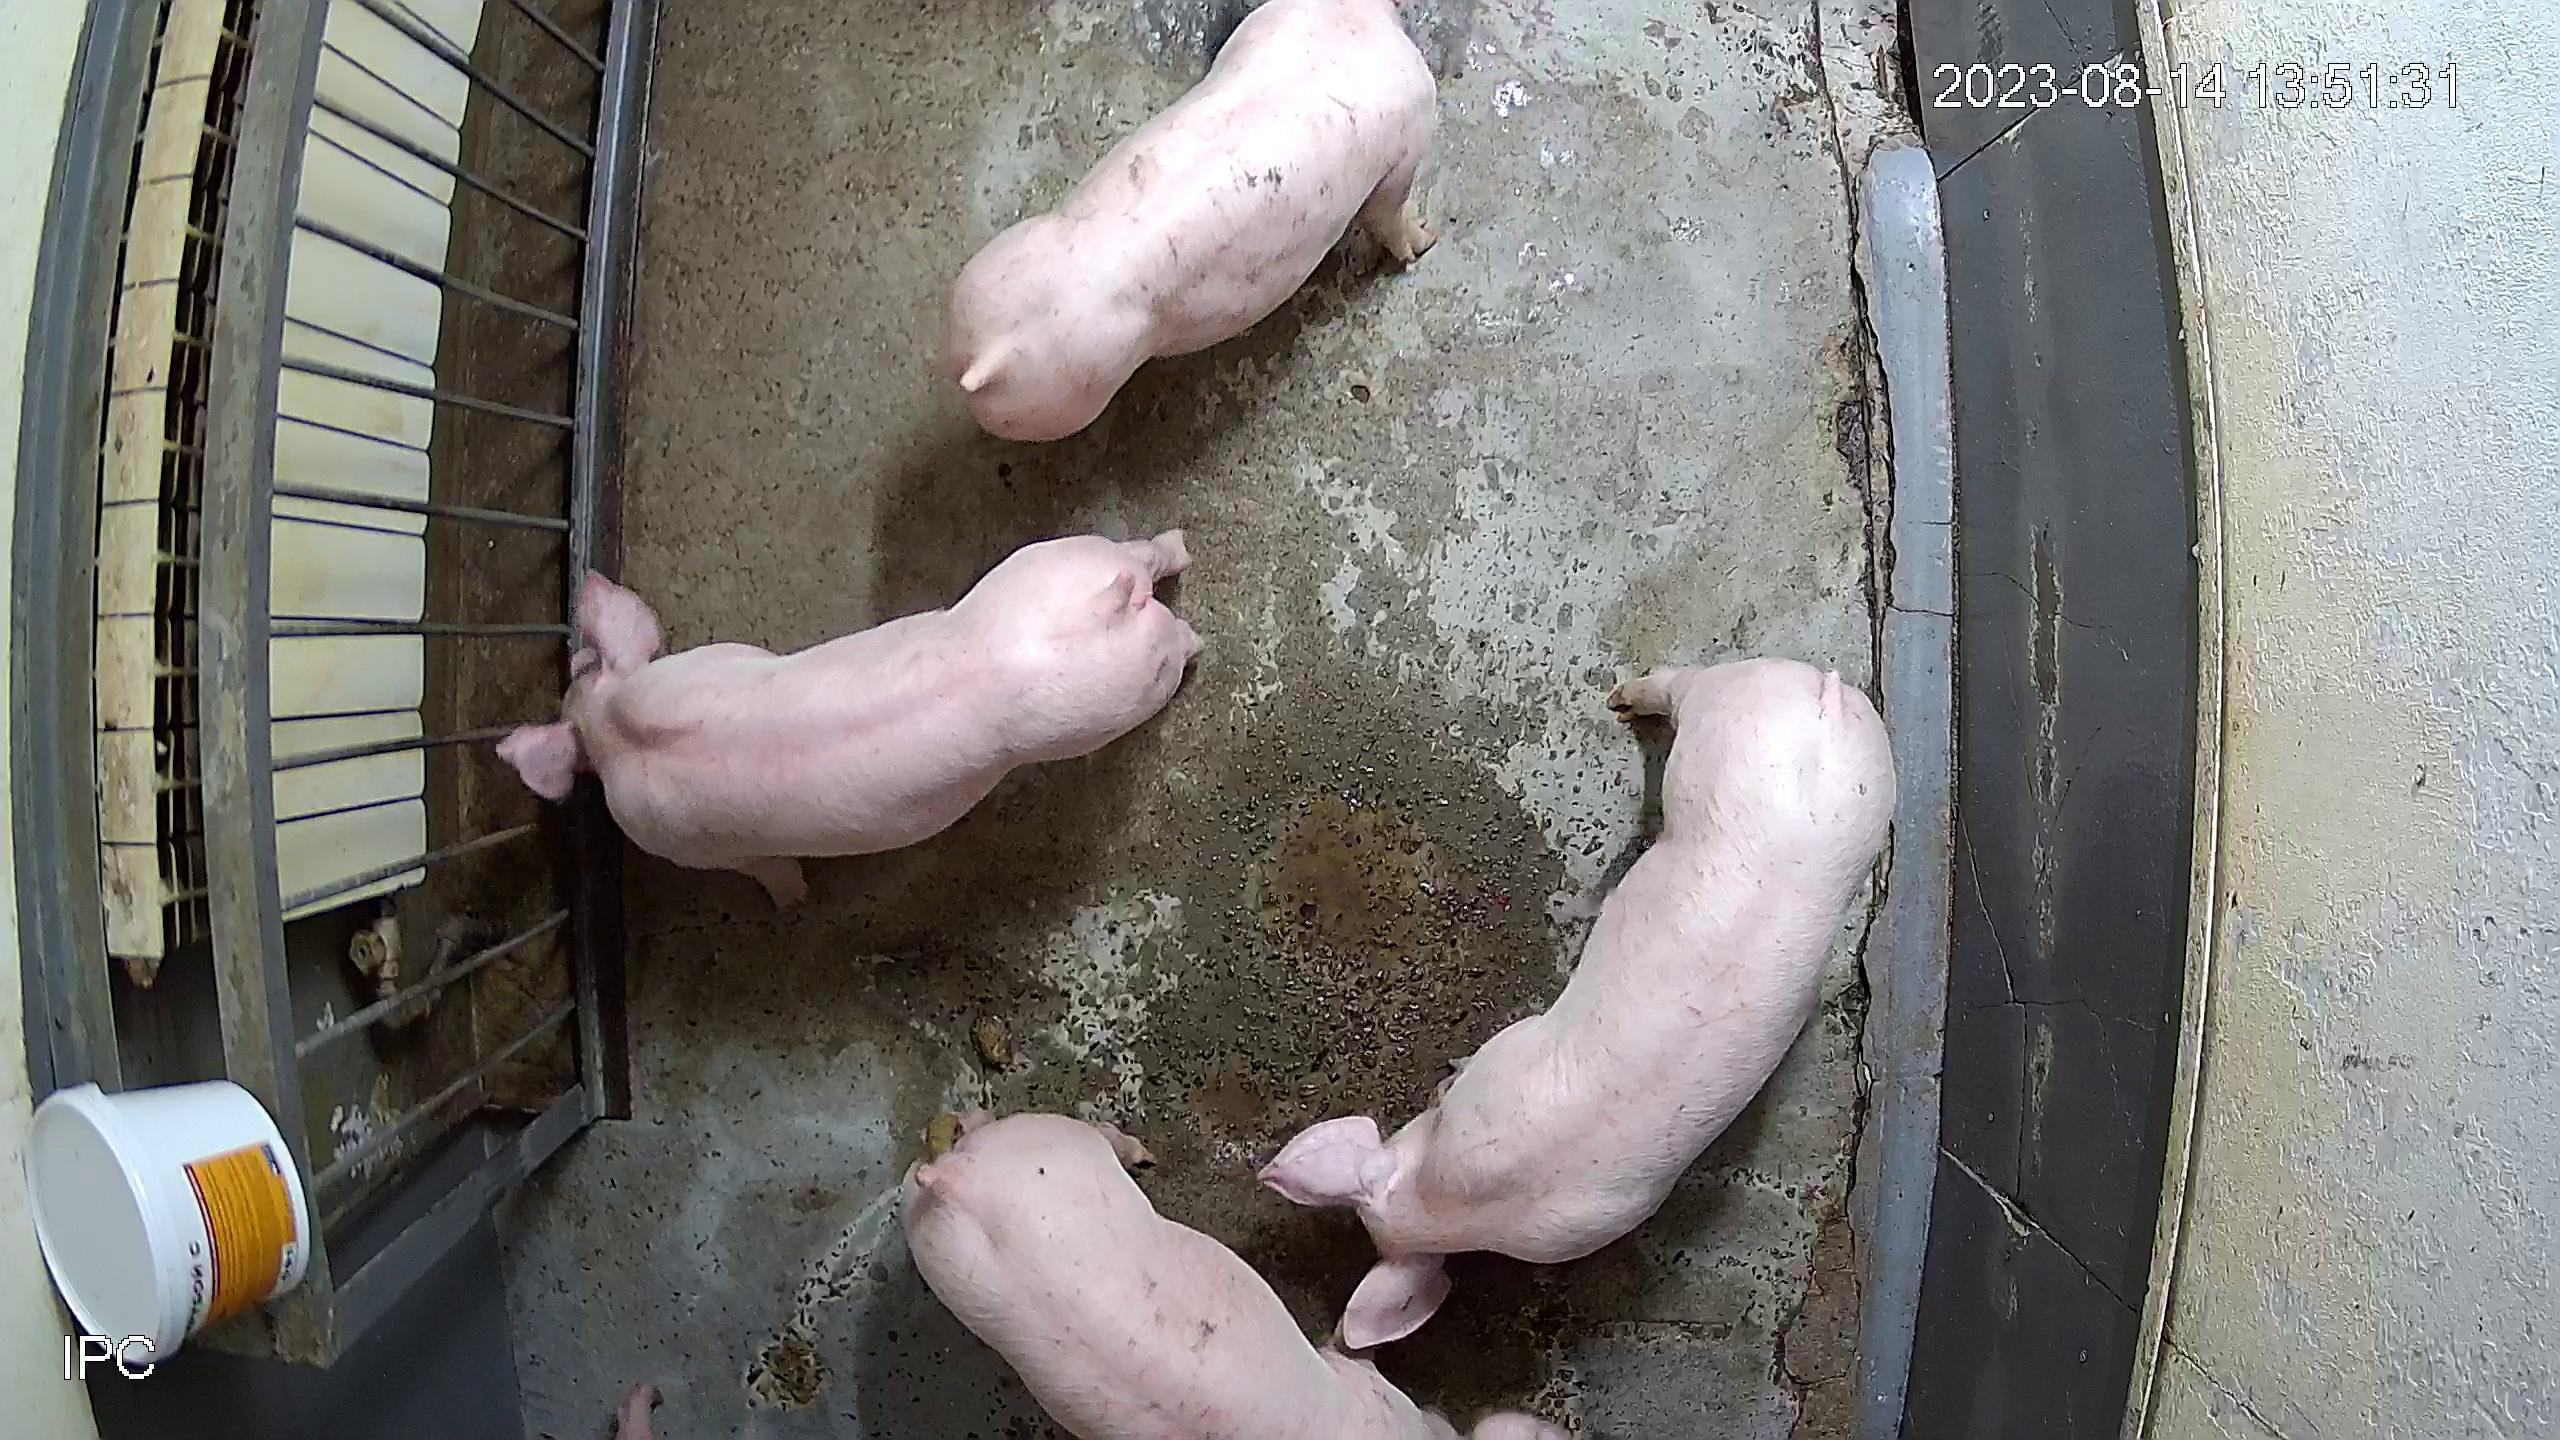Pig: (1259, 658, 1897, 1349), (498, 527, 1203, 904), (949, 0, 1436, 438), (900, 1115, 1458, 1440)
